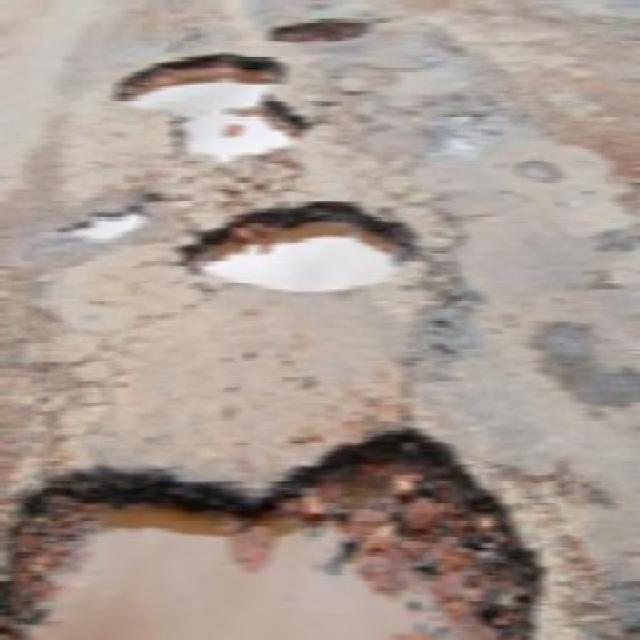Pothole: (0, 417, 620, 640), (164, 185, 414, 308), (88, 55, 313, 162), (268, 13, 375, 44)
